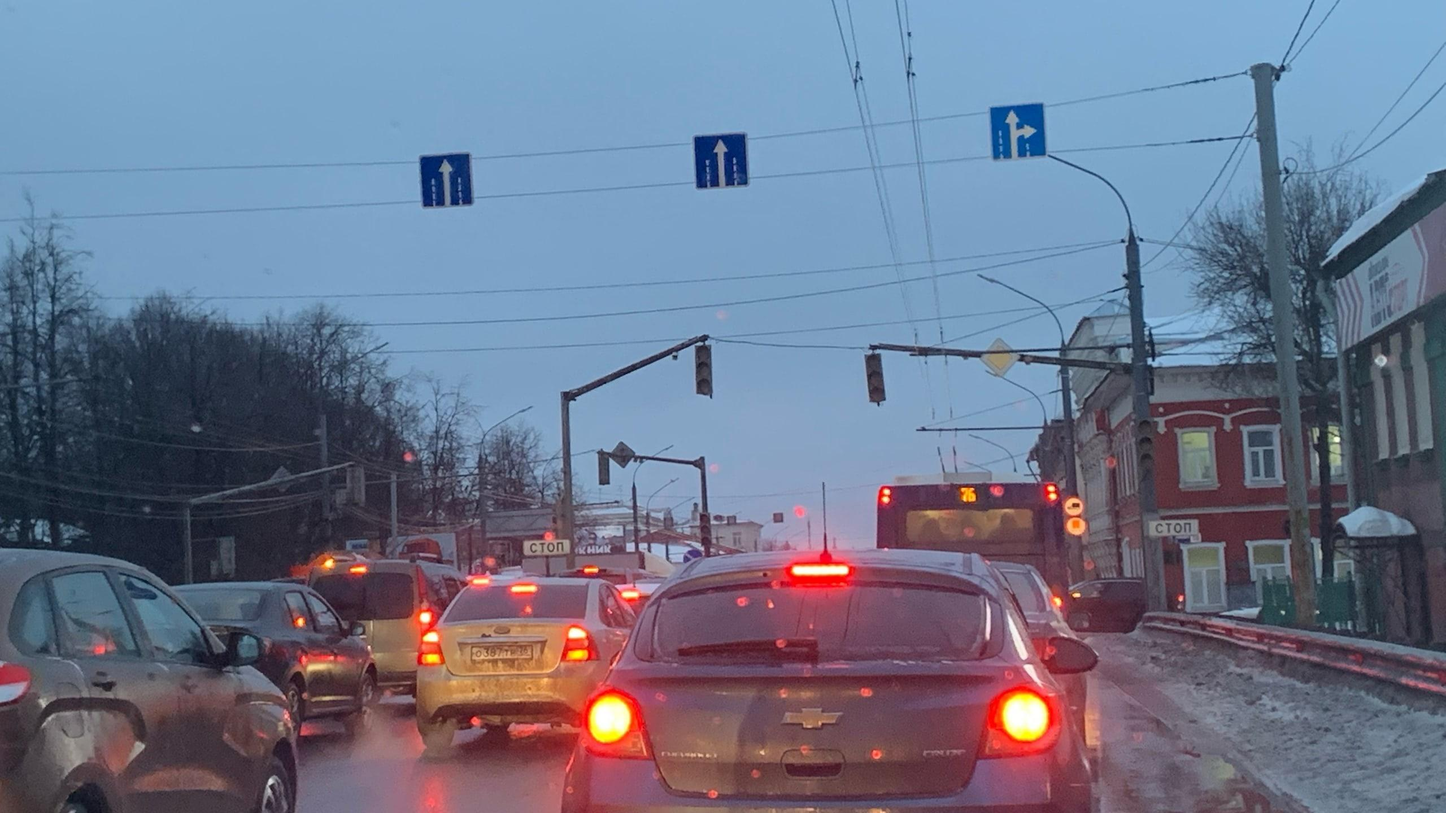off traffic light: (863, 352, 887, 401), (1136, 418, 1156, 469), (694, 345, 713, 394), (699, 512, 712, 546)
road_sign: (989, 103, 1050, 160), (417, 151, 476, 208), (692, 132, 748, 189), (979, 338, 1020, 377), (1147, 519, 1200, 537), (522, 539, 571, 556), (1062, 495, 1084, 517)
